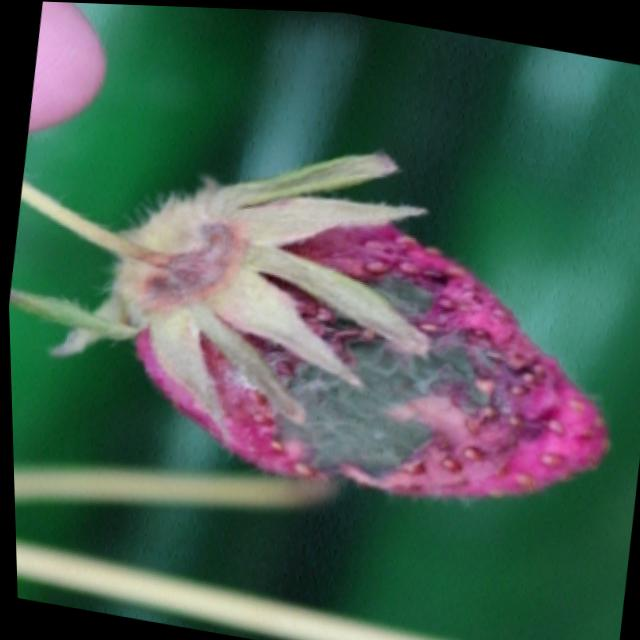Gray Mold: (132, 219, 606, 498)
